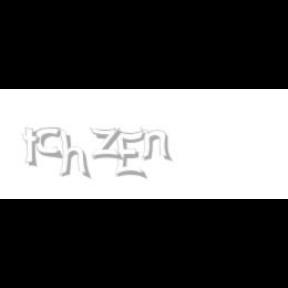E: (114, 128, 146, 180)
c: (36, 128, 64, 160)
h: (58, 128, 92, 180)
n: (139, 128, 173, 162)
t: (22, 128, 44, 168)
z: (89, 128, 125, 160)
